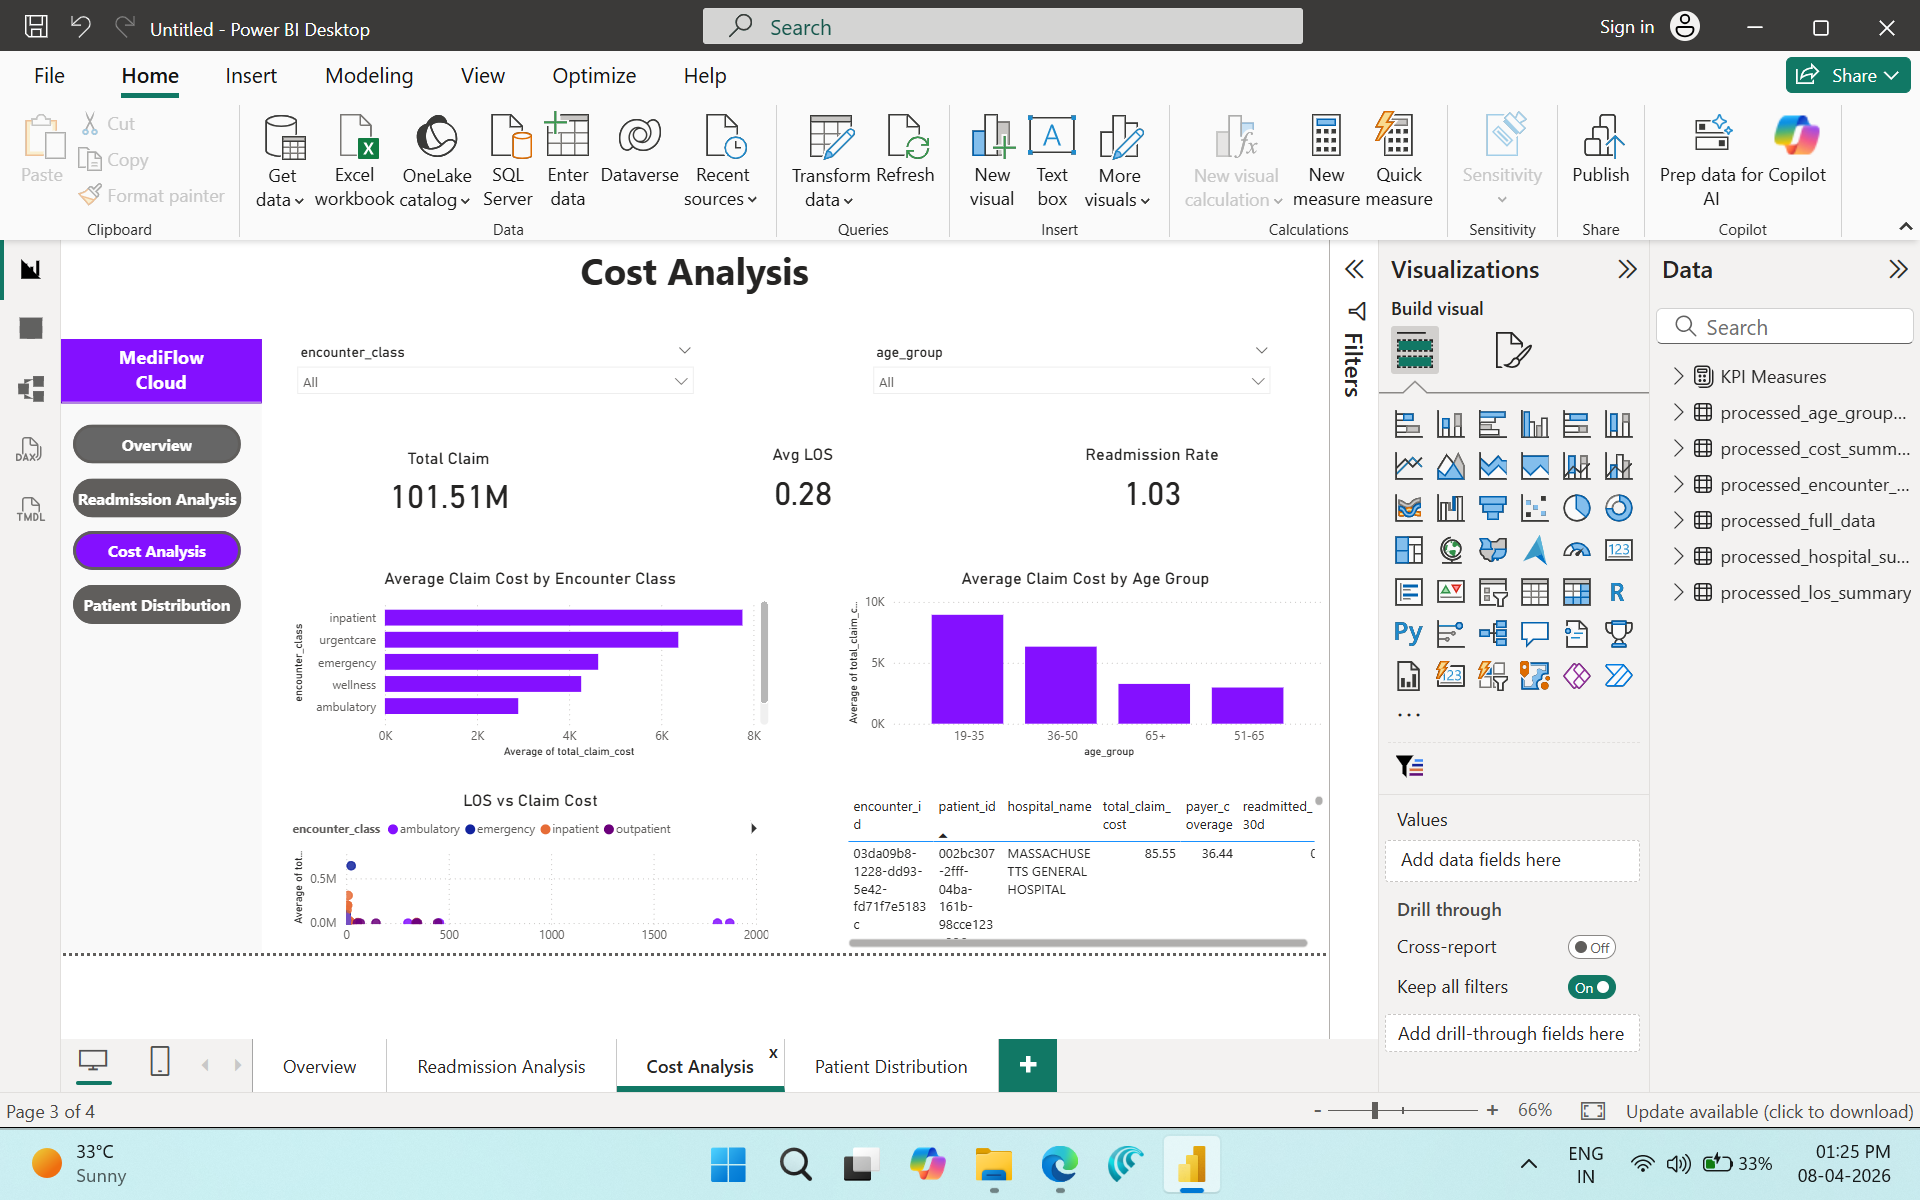

This screenshot's page, from the dashboard's own definition file:
{"tool":"powerbi","page":{"name":"Cost Analysis","canvas":[1280,720],"ordinal":2},"visuals":[{"type":"textbox","box":[0,0,1279.5,75.7],"z":0},{"type":"slicer","fields":{"Values":["processed_full_data.encounter_class"]},"box":[228.6,99.9,420,75.7],"z":1000},{"type":"slicer","fields":{"Values":["processed_full_data.age_group"]},"box":[810.1,99.9,420.9,75.7],"z":2000},{"type":"card","title":"Total Claim","fields":{"Values":["KPI Measures.Total Claim"]},"box":[248.3,210.5,286.2,71.2],"z":3000},{"type":"card","title":"Avg LOS","fields":{"Values":["KPI Measures.Avg LOS"]},"box":[605.7,205.9,286.2,75.7],"z":4000},{"type":"card","title":"Readmission Rate","fields":{"Values":["KPI Measures.Readmission Rate"]},"box":[958.5,205.9,286.2,75.7],"z":5000},{"type":"clusteredBarChart","title":"Average Claim Cost by Encounter Class","fields":{"Category":["processed_full_data.encounter_class"],"Y":["Avg(processed_full_data.total_claim_cost)"]},"box":[228.6,331.6,490,195.3],"z":6000},{"type":"clusteredColumnChart","title":"Average Claim Cost by Age Group","fields":{"Category":["processed_full_data.age_group"],"Y":["Avg(processed_full_data.total_claim_cost)"]},"box":[788.9,331.6,490.6,195.3],"z":7000},{"type":"scatterChart","title":"LOS vs Claim Cost","fields":{"X":["Avg(processed_full_data.los_days)"],"Y":["Avg(processed_full_data.total_claim_cost)"],"Category":["processed_full_data.encounter_id"],"Series":["processed_full_data.encounter_class"]},"box":[228.6,555.7,490.6,163.5],"z":8000},{"type":"tableEx","fields":{"Values":["processed_full_data.encounter_id","processed_full_data.patient_id","processed_full_data.hospital_name","processed_full_data.total_claim_cost","processed_full_data.payer_coverage","processed_full_data.readmitted_30d"]},"box":[788.9,555.7,490.6,163.5],"z":9000},{"type":"shape","box":[0,99.9,202.9,619.3],"z":10000},{"type":"shape","box":[0,99.9,202.9,65.1],"z":11000},{"type":"textbox","box":[0,99.9,202.9,63.6],"z":12000},{"type":"actionButton","box":[12.6,186.8,169.6,39.4],"z":13000},{"type":"actionButton","box":[12.6,241.3,170,39.4],"z":14000},{"type":"actionButton","box":[12.6,294.3,169.6,39.4],"z":15000},{"type":"actionButton","box":[12.6,348.8,169.6,39.4],"z":16000}]}

Visuals, with their boxes on the page's 1280x720 design canvas (x1, y1, x2, y2). These are canvas units, not pixel positions in the 1920x1200 screenshot, which may show the page scaled, cropped or inside an application window:
textbox: [left=0, top=0, right=1280, bottom=76]
slicer - processed_full_data.encounter_class: [left=229, top=100, right=649, bottom=176]
slicer - processed_full_data.age_group: [left=810, top=100, right=1231, bottom=176]
"Total Claim" card: [left=248, top=210, right=534, bottom=282]
"Avg LOS" card: [left=606, top=206, right=892, bottom=282]
"Readmission Rate" card: [left=958, top=206, right=1245, bottom=282]
"Average Claim Cost by Encounter Class" clusteredBarChart: [left=229, top=332, right=719, bottom=527]
"Average Claim Cost by Age Group" clusteredColumnChart: [left=789, top=332, right=1280, bottom=527]
"LOS vs Claim Cost" scatterChart: [left=229, top=556, right=719, bottom=719]
tableEx - processed_full_data.encounter_id x processed_full_data.patient_id: [left=789, top=556, right=1280, bottom=719]
shape: [left=0, top=100, right=203, bottom=719]
shape: [left=0, top=100, right=203, bottom=165]
textbox: [left=0, top=100, right=203, bottom=164]
actionButton: [left=13, top=187, right=182, bottom=226]
actionButton: [left=13, top=241, right=183, bottom=281]
actionButton: [left=13, top=294, right=182, bottom=334]
actionButton: [left=13, top=349, right=182, bottom=388]
